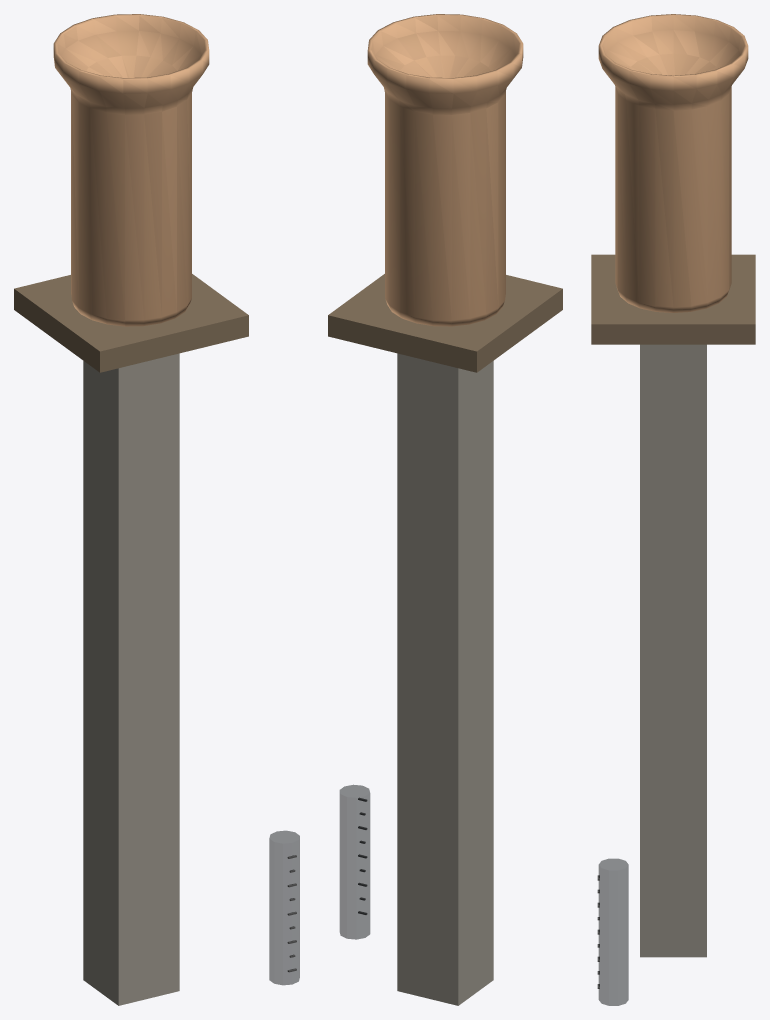
File: storm_rain_gauge_a.glb
The picture shows the model from 3 angles, left to right: view 1: azimuth 30°, elevation 25°; view 2: azimuth 150°, elevation 25°; view 3: azimuth 270°, elevation 25°; orthographic projection. The views are drawn at different scales.
Visible parts, largest first — view 1: body; view 2: body; view 3: body.
Part boxes in pixels (left/top/right/bottom): body: left=14, top=14, right=299, bottom=1005; body: left=328, top=14, right=562, bottom=1005; body: left=591, top=14, right=755, bottom=1005.
Size of the model in its own units: 0.309 by 1.33 by 0.22.
